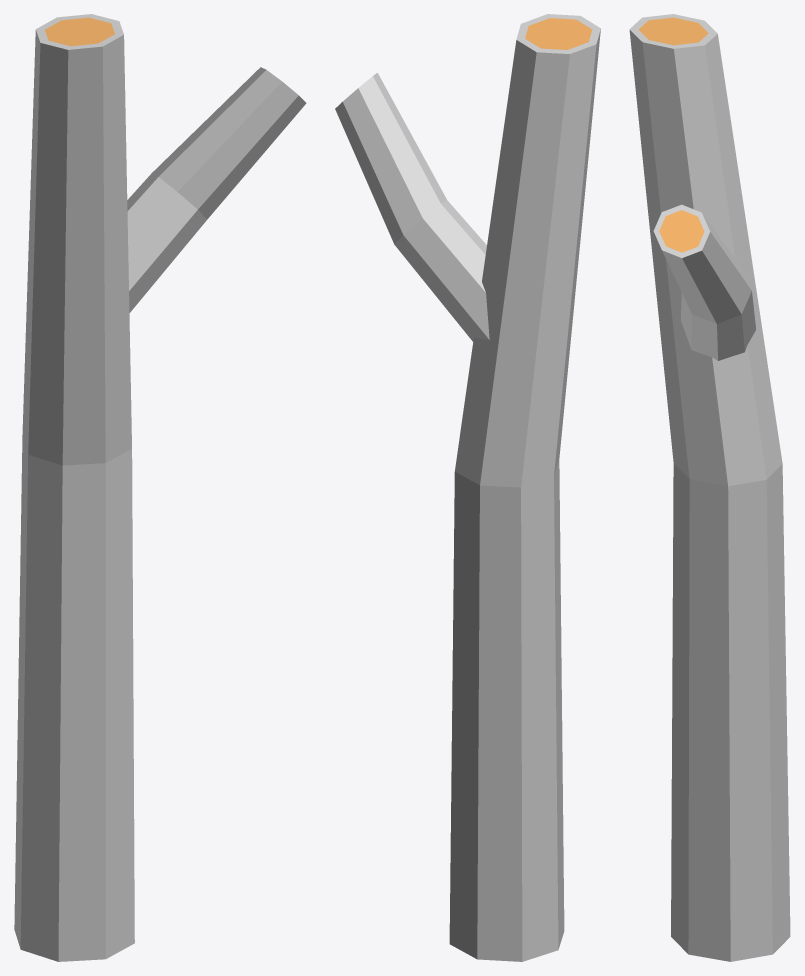
Rendered from eucalyptus_cut.fbx.
3 views of the same model, side by side, from view 1: azimuth 30°, elevation 25°; view 2: azimuth 150°, elevation 25°; view 3: azimuth 270°, elevation 25° (orthographic). The views are drawn at different scales.
Visible parts, largest first — view 1: Cylinder.032; view 2: Cylinder.032; view 3: Cylinder.032.
Part boxes in pixels (<box>): Cylinder.032: <box>14,14,306,961</box>; Cylinder.032: <box>335,14,600,961</box>; Cylinder.032: <box>629,14,790,961</box>.
Bounding box in the file's own units: 76.27 × 257 × 41.89.
